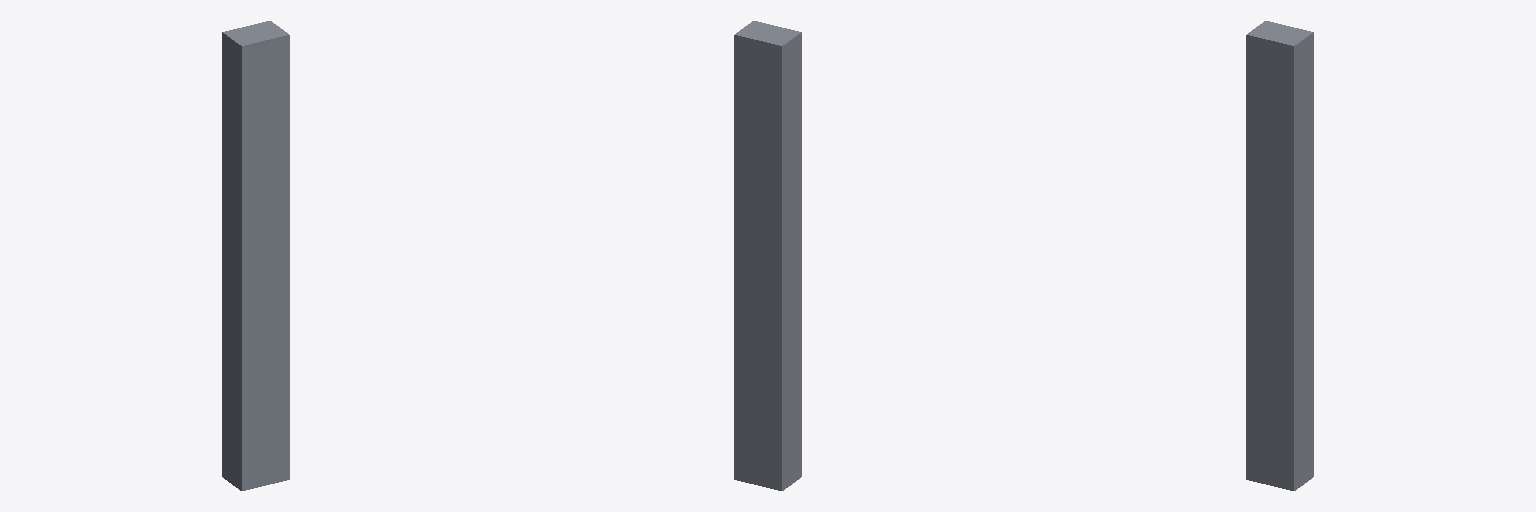
robot.urdf — artmanip_knife_000:
<?xml version='1.0' encoding='utf-8'?>
<robot name="artmanip_knife_000"><link name="link_0"><inertial><mass value="0.02486015046681386" /><inertia ixx="3.849814671164819e-05" iyy="3.8748083445542653e-05" izz="7.220748235723598e-07" ixy="0" ixz="0" iyz="0" /></inertial><visual><geometry><box size="0.01531649745762562 0.01067476364766449 0.13590111535299274" /></geometry><material name="link_0_color"><color rgba=".58 .60 .64 1" /></material></visual><collision><geometry><box size="0.01531649745762562 0.01067476364766449 0.13590111535299274" /></geometry></collision></link><link name="link_1"><inertial><mass value="0.006" /><inertia ixx="4.545e-07" iyy="5e-07" izz="5.45e-08" ixy="0" ixz="0" iyz="0" /></inertial><visual><geometry><mesh filename="slider-shoulder.obj" /></geometry><material name="link_1_color"><color rgba=".12 .13 .15 1" /></material></visual><collision><geometry><mesh filename="slider-shoulder.obj" /></geometry></collision></link><joint name="slider" type="prismatic"><parent link="link_0" /><child link="link_1" /><origin xyz="-0.000681212250813783 0.006994976703397577 0.006651555633001303" /><axis xyz="0 0 1" /><limit lower="-0.03267458688196273" upper="0.017325413118037272" effort="100" velocity="1" /><dynamics damping="1000" friction="0.001" /></joint></robot>

--- Render facts (derived) ---
3 views of the same robot in one strip: view 1: azimuth 30°, elevation 25°; view 2: azimuth 150°, elevation 25°; view 3: azimuth 330°, elevation 25° (orthographic).
Model artmanip_knife_000 with 2 links and 1 joints (1 prismatic), rooted at link_0, posed every joint at zero.
Visible links, largest first — view 1: link_0; view 2: link_0; view 3: link_0.
Boxes of the visible links, box(x1,y1,x2,y2) form: link_0: box(222, 21, 289, 490); link_0: box(734, 21, 801, 490); link_0: box(1246, 21, 1313, 490).
Bounding box of the posed robot: 0.0153 × 0.0107 × 0.1359 m (x, y, z).
Meshes: 1 distinct files referenced, 0 mesh visuals loaded (none loaded); not drawn: 1 (reference not matched to a file when rendering).
